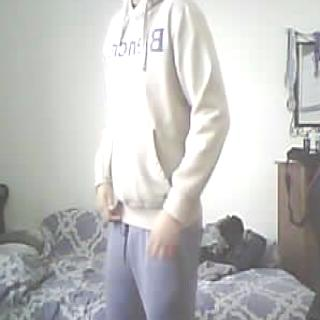Blue Sweatpants: (100, 215, 205, 320)
Yellow Hoodie: (90, 0, 228, 216)
